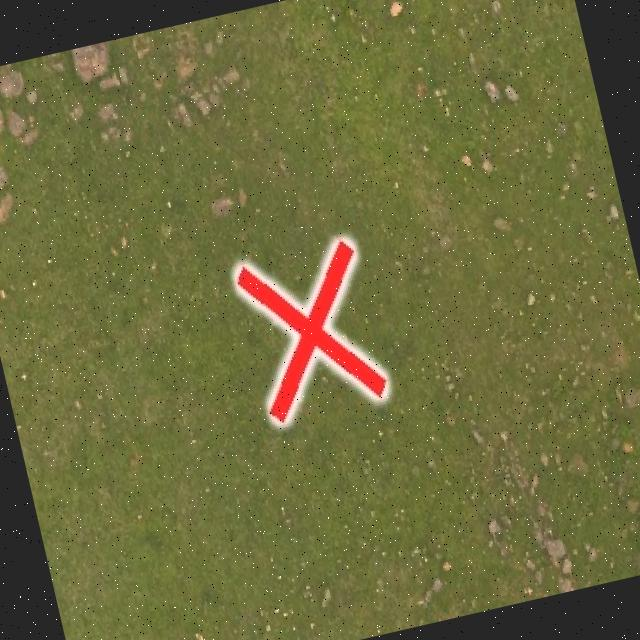x_marker: (232, 237, 388, 423)
